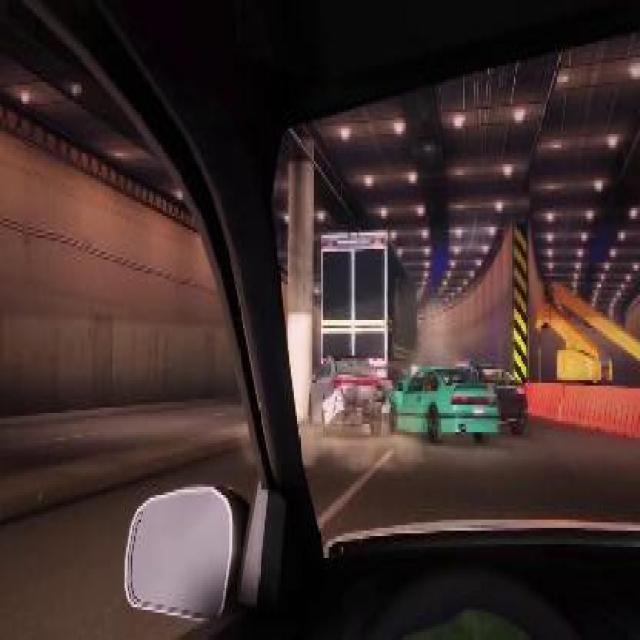accident: (303, 227, 423, 438), (309, 347, 505, 454)
